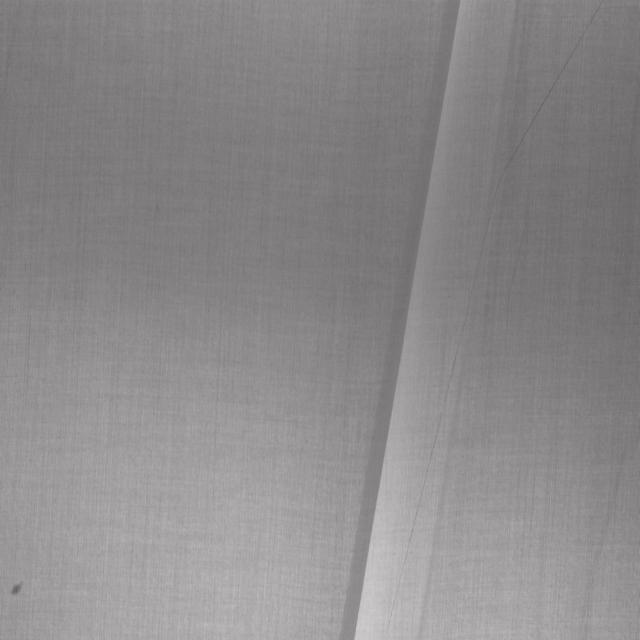dirty: (9, 580, 23, 596)
